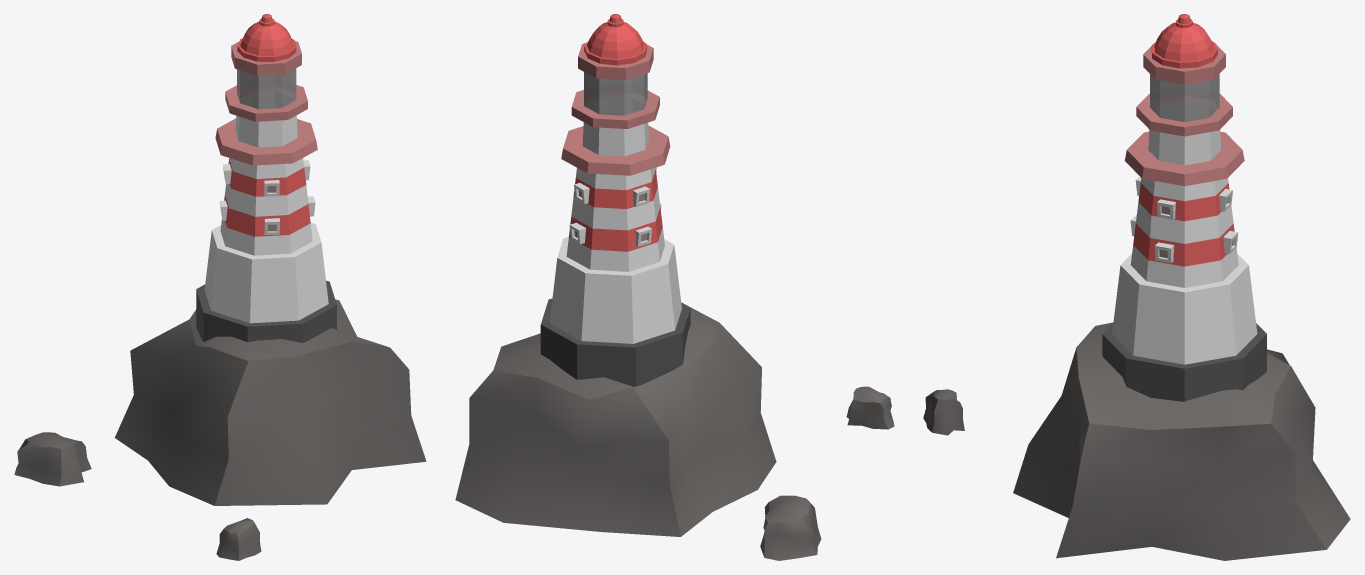
Rendered from Lighthouse.fbx.
3 renders of one model, left to right at view 1: azimuth 30°, elevation 25°; view 2: azimuth 150°, elevation 25°; view 3: azimuth 270°, elevation 25°, orthographic. The views are drawn at different scales.
Visible parts, largest first — view 1: lighthouse; view 2: lighthouse; view 3: lighthouse.
Part boxes in pixels (<box>): lighthouse: <box>14,14,426,560</box>; lighthouse: <box>455,14,894,560</box>; lighthouse: <box>923,14,1350,560</box>.
Size of the model in its own units: 15.11 by 18.91 by 15.05.
